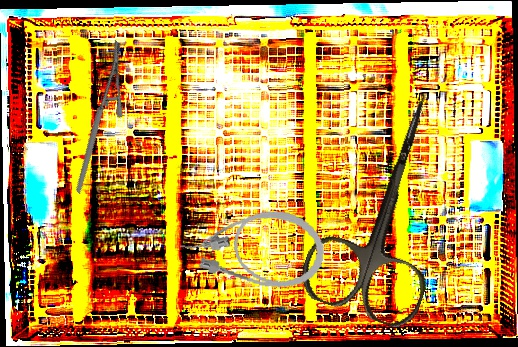Cannula: (175, 196, 330, 295)
Iris Scissors: (294, 77, 485, 333)
Needle Holder: (32, 39, 163, 195)
